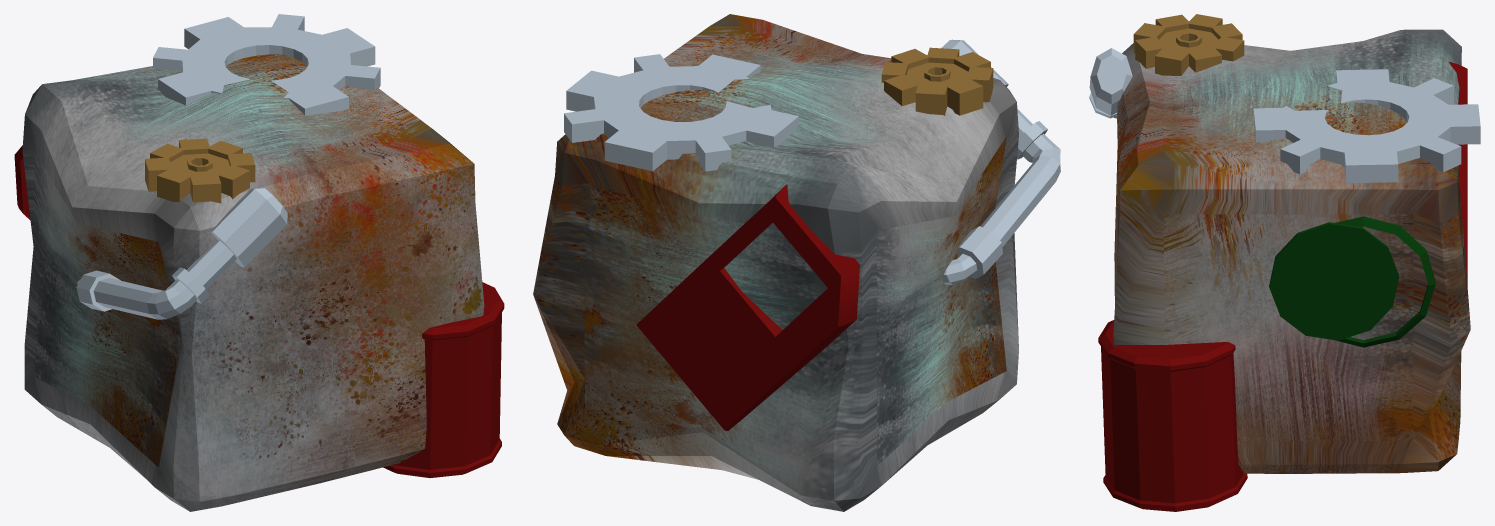
The model's file is junk cubeNew.fbx.
The picture shows the model from 3 angles, left to right: view 1: azimuth 30°, elevation 25°; view 2: azimuth 150°, elevation 25°; view 3: azimuth 270°, elevation 25°; orthographic projection. The views are drawn at different scales.
Parts seen in each view (by area): view 1: pPipe4; view 2: pPipe4; view 3: pPipe4.
Part boxes in pixels (x1,y1,x2,y2): pPipe4: [14, 14, 504, 511]; pPipe4: [533, 14, 1060, 511]; pPipe4: [1089, 14, 1480, 511].
Bounding box in the file's own units: 24.74 × 21.71 × 22.49.
